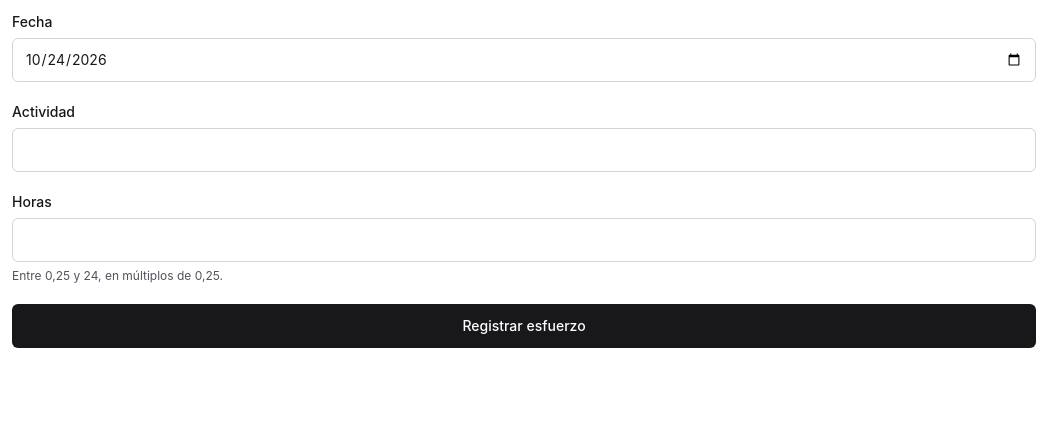
it: 006/US1 - Registrar el esfuerzo trabajado › Caso de error — tope diario superado
Type "Implementación del formulario de alta" into the field labelled "Actividad".
click(524, 150); type("Implementación del formulario de alta")  # box [12, 128, 1036, 172]
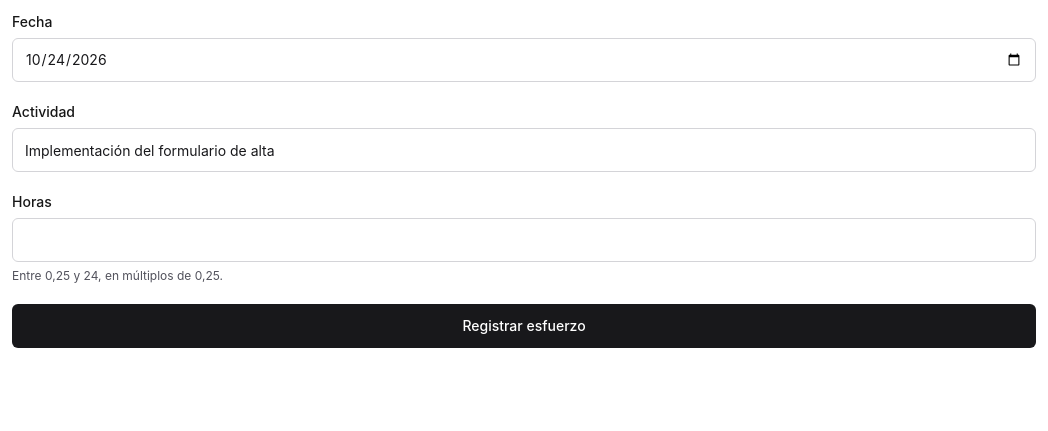
Type "6.5" into the number field labelled "Horas".
click(524, 240); type("6.5")  # box [12, 218, 1036, 262]
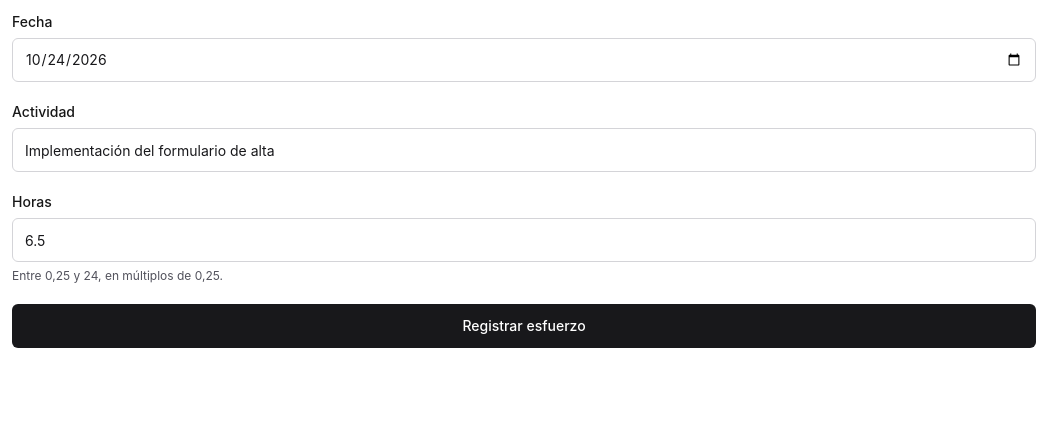
Click the button "Registrar esfuerzo".
click(524, 326)  # box [12, 304, 1036, 348]
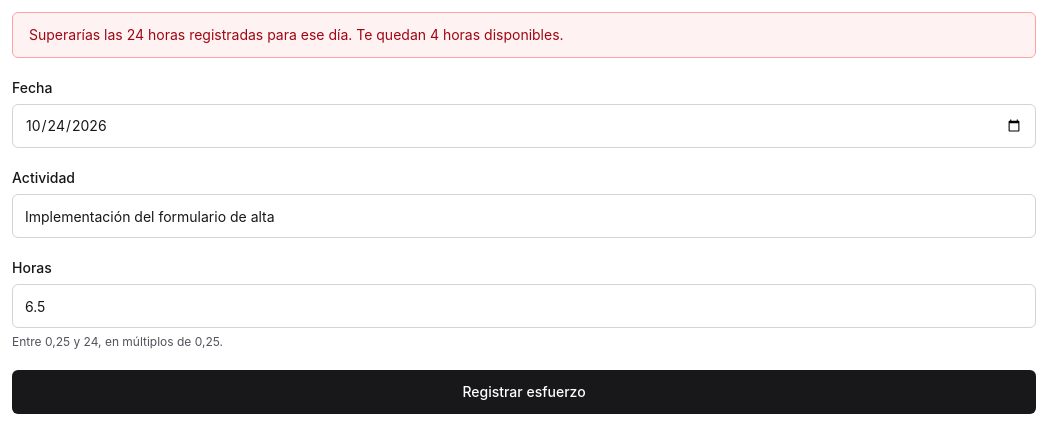
Result: the message reads "Superarías las 24 horas registradas para ese día. Te quedan 4 horas disponibles." at [29, 26, 564, 43]
Result: the message shows "Te quedan 4 horas disponibles." at [29, 26, 564, 43]
